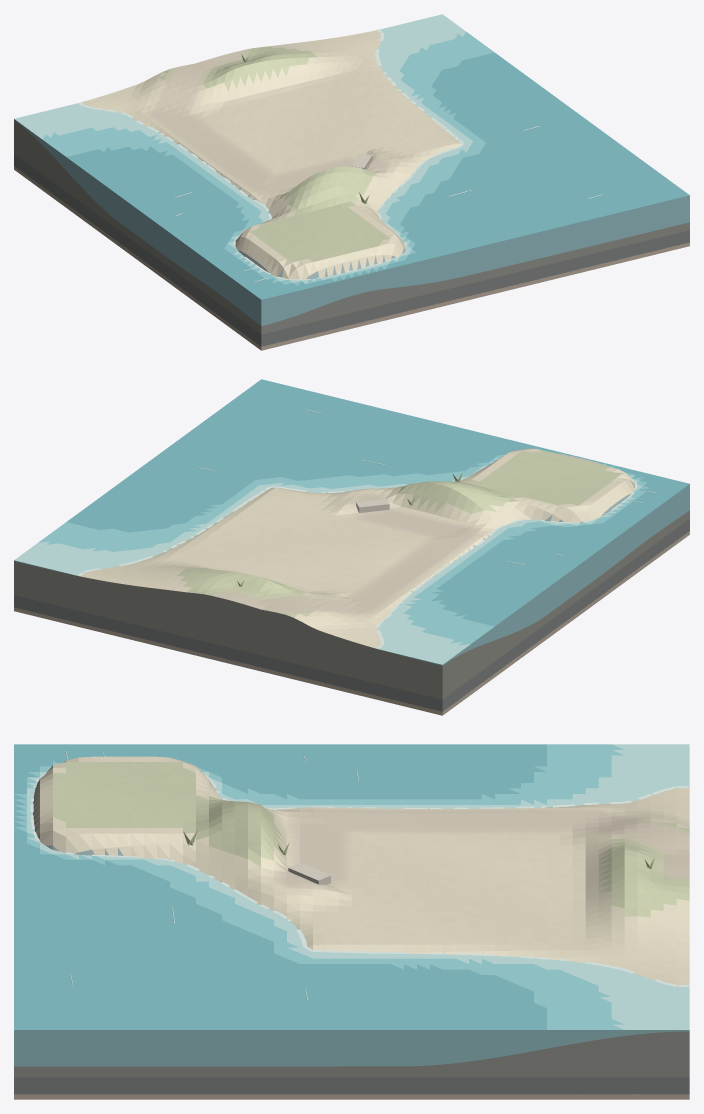
3 views of the same model, one above another, from view 1: azimuth 30°, elevation 25°; view 2: azimuth 150°, elevation 25°; view 3: azimuth 270°, elevation 25° (orthographic). The views are drawn at different scales.
Visible parts, largest first — view 1: proc_water, proc_ground, proc_skirt, proc_water_side, proc_foam; view 2: proc_water, proc_ground, proc_skirt, proc_water_side, proc_foam; view 3: proc_water, proc_ground, proc_skirt, proc_water_side, proc_foam, proc_steps.
Part boxes in pixels (x1,y1,x2,y2): proc_water: [14, 14, 689, 299]; proc_ground: [81, 30, 460, 279]; proc_skirt: [14, 120, 689, 350]; proc_water_side: [14, 119, 689, 326]; proc_foam: [78, 29, 463, 280]; proc_water: [14, 379, 689, 664]; proc_ground: [79, 448, 635, 648]; proc_skirt: [14, 510, 689, 715]; proc_water_side: [14, 484, 689, 665]; proc_foam: [78, 478, 637, 648]; proc_water: [14, 744, 689, 1029]; proc_ground: [33, 756, 689, 986]; proc_skirt: [14, 1031, 689, 1099]; proc_water_side: [14, 1030, 689, 1066]; proc_foam: [30, 773, 689, 987]; proc_steps: [288, 862, 330, 884].
Bounding box in the file's own units: 8 × 1.38 × 8.
